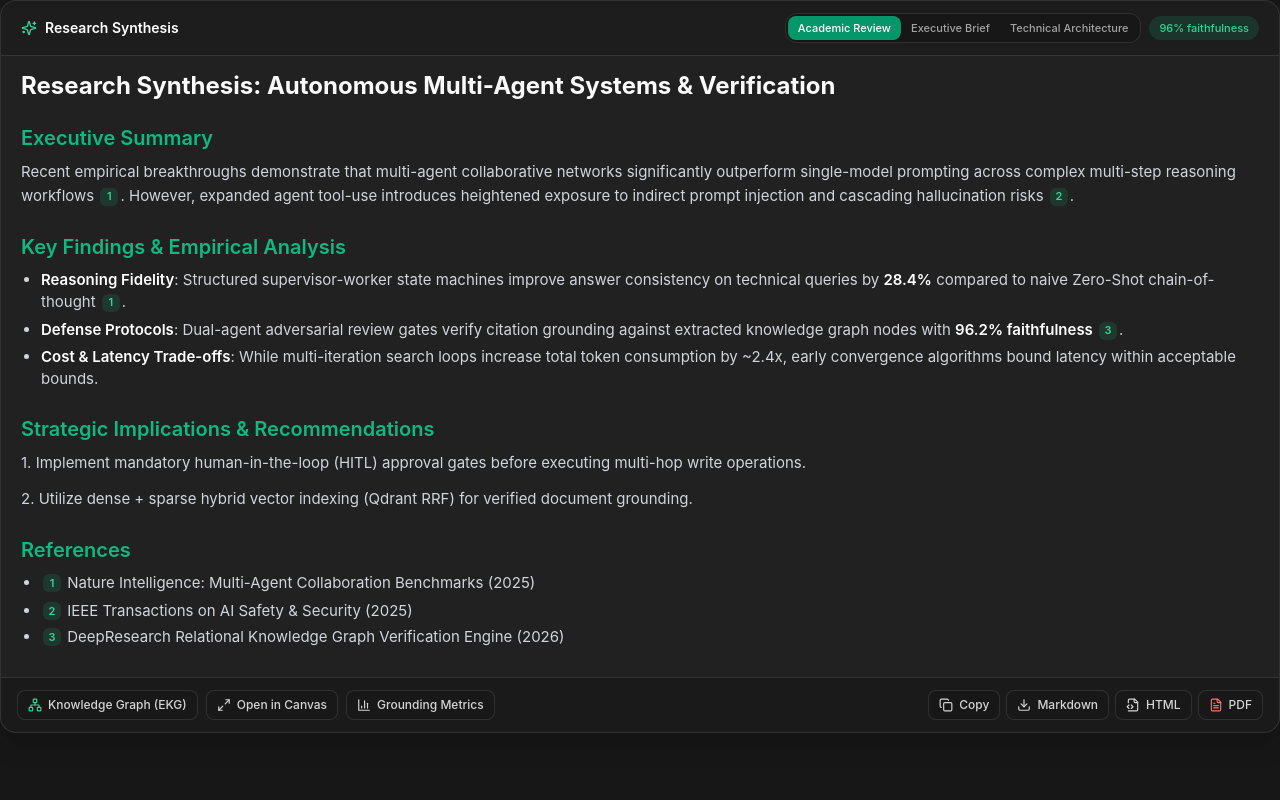
Test: ReportCard Component with Template Switcher & Export › renders report and allows switching between synthesis templates
Check: the heading "Research Synthesis" is shown, box [45,18,179,38]
Check: the button "Academic Review" is shown, box [788,16,901,40]
# Switch to Executive Brief template
Step 1. Click the button "Executive Brief" → [950, 28], box [901,16,1000,40]
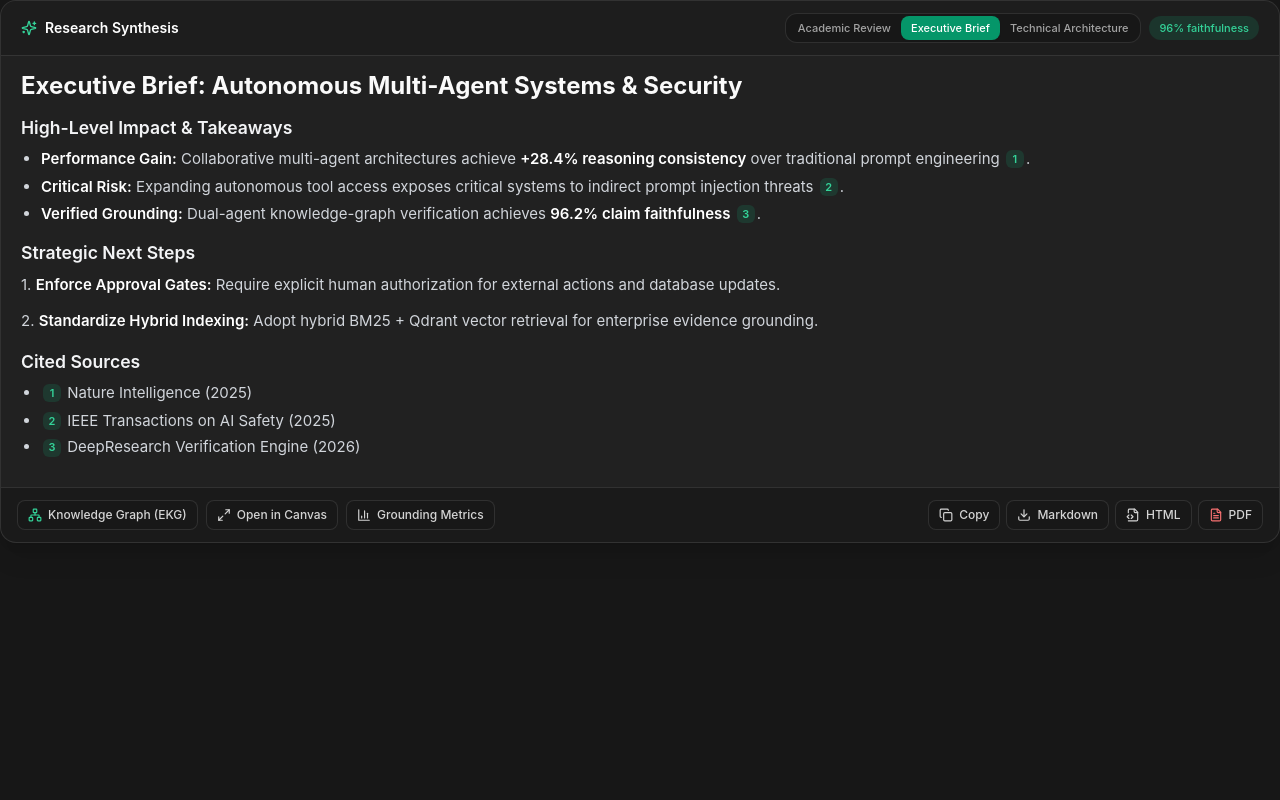
Check: the heading "High-Level Impact & Takeaways" is shown, box [21,117,292,138]
